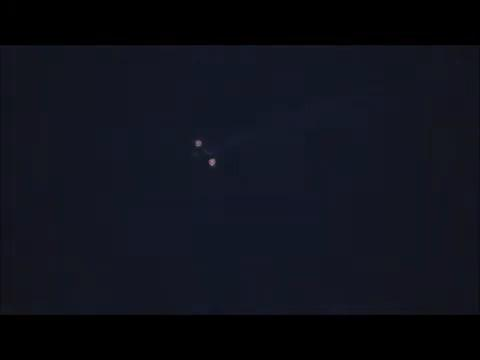Plane: (163, 125, 257, 177)
